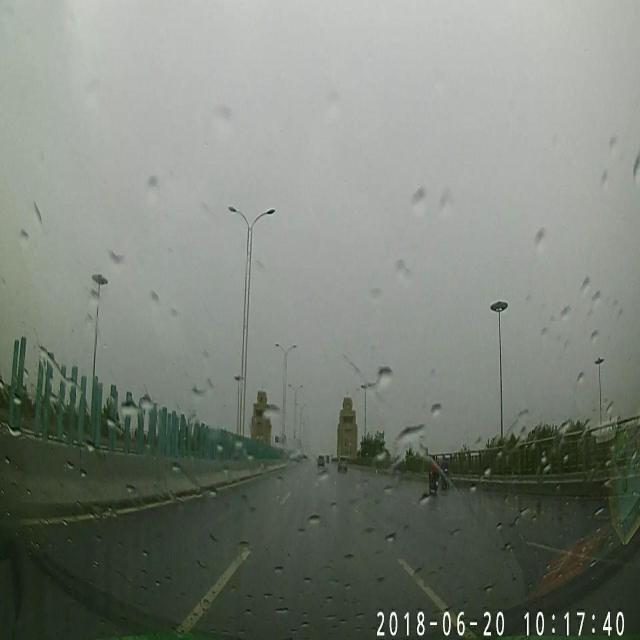car: (335, 454, 348, 474), (316, 454, 325, 466)
